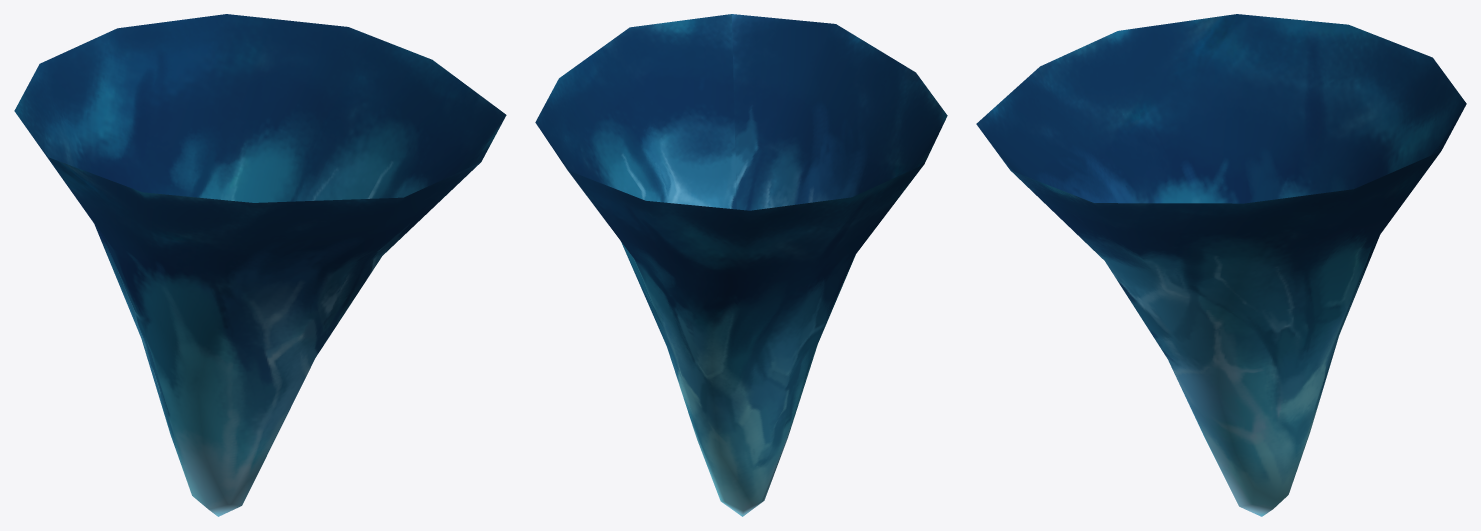
The model's file is BingYingZhong_Bing_2.fbx.
3 views of the same model, side by side, from view 1: azimuth 30°, elevation 25°; view 2: azimuth 150°, elevation 25°; view 3: azimuth 270°, elevation 25° (orthographic). The views are drawn at different scales.
Visible parts, largest first — view 1: BingYingZhong_Bing_2; view 2: BingYingZhong_Bing_2; view 3: BingYingZhong_Bing_2.
Part boxes in pixels (bbox=[...]): BingYingZhong_Bing_2: bbox=[14, 14, 506, 516]; BingYingZhong_Bing_2: bbox=[535, 14, 947, 516]; BingYingZhong_Bing_2: bbox=[976, 14, 1466, 516].
Bounding box in the file's own units: 354 × 361 × 388.
